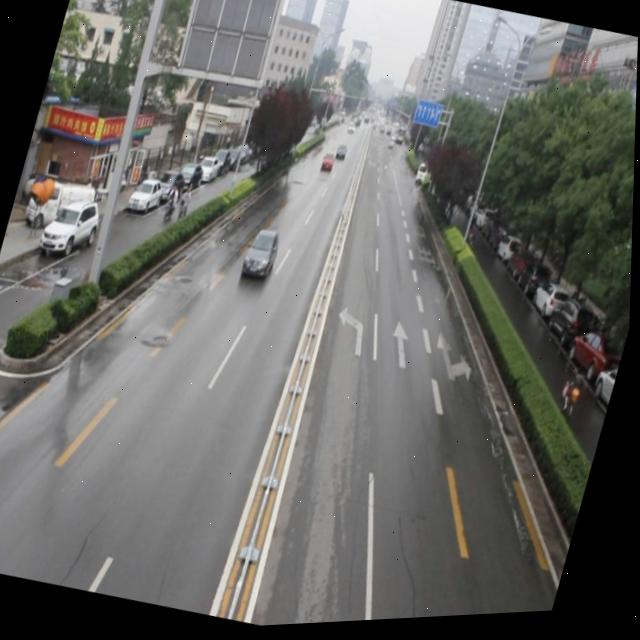car: (240, 227, 284, 286), (320, 152, 337, 176)
